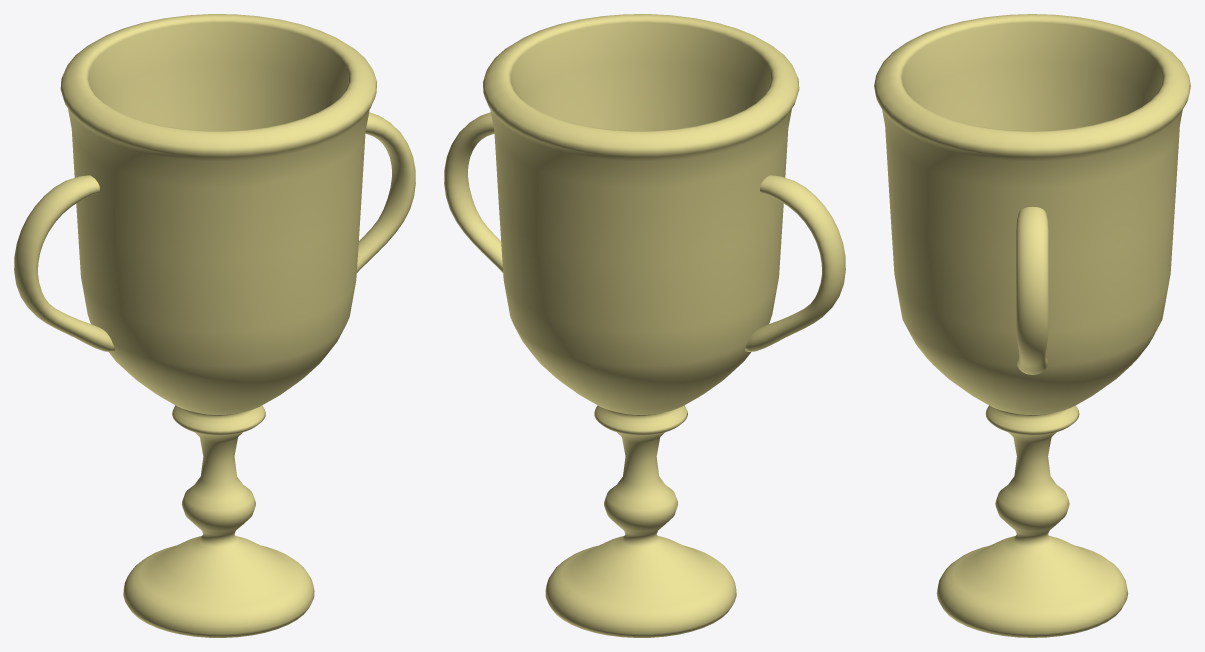
Rendered from trophey_AloneGeo.fbx.
3 renders of one model, left to right at view 1: azimuth 30°, elevation 25°; view 2: azimuth 150°, elevation 25°; view 3: azimuth 270°, elevation 25°, orthographic.
Visible parts, largest first — view 1: trophy_geo1; view 2: trophy_geo1; view 3: trophy_geo1.
Part boxes in pixels (box(x1,y1,x2,y2)): trophy_geo1: box(14, 14, 415, 637); trophy_geo1: box(444, 14, 845, 637); trophy_geo1: box(874, 14, 1190, 637).
Bounding box in the file's own units: 12.95 × 16.47 × 8.98.
